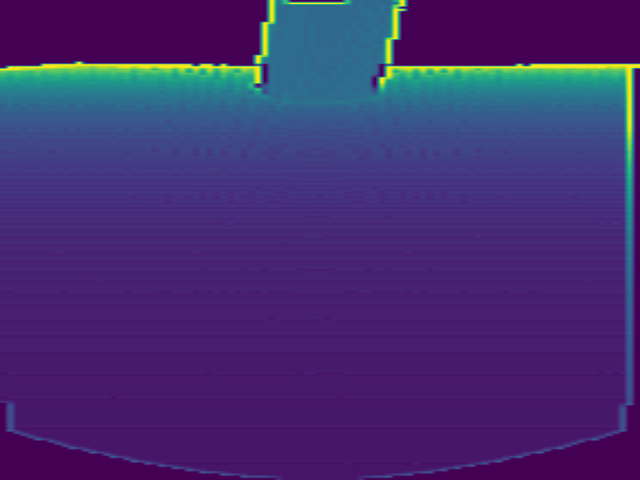cylinder: (252, 2, 406, 98)
